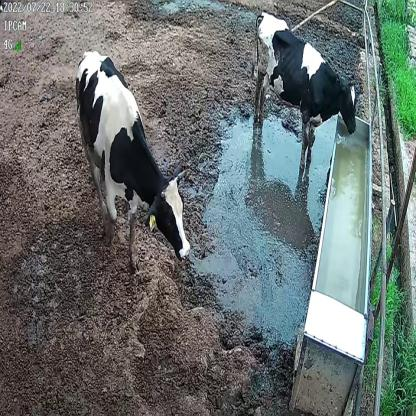cow: (75, 50, 191, 283), (251, 12, 359, 173)
